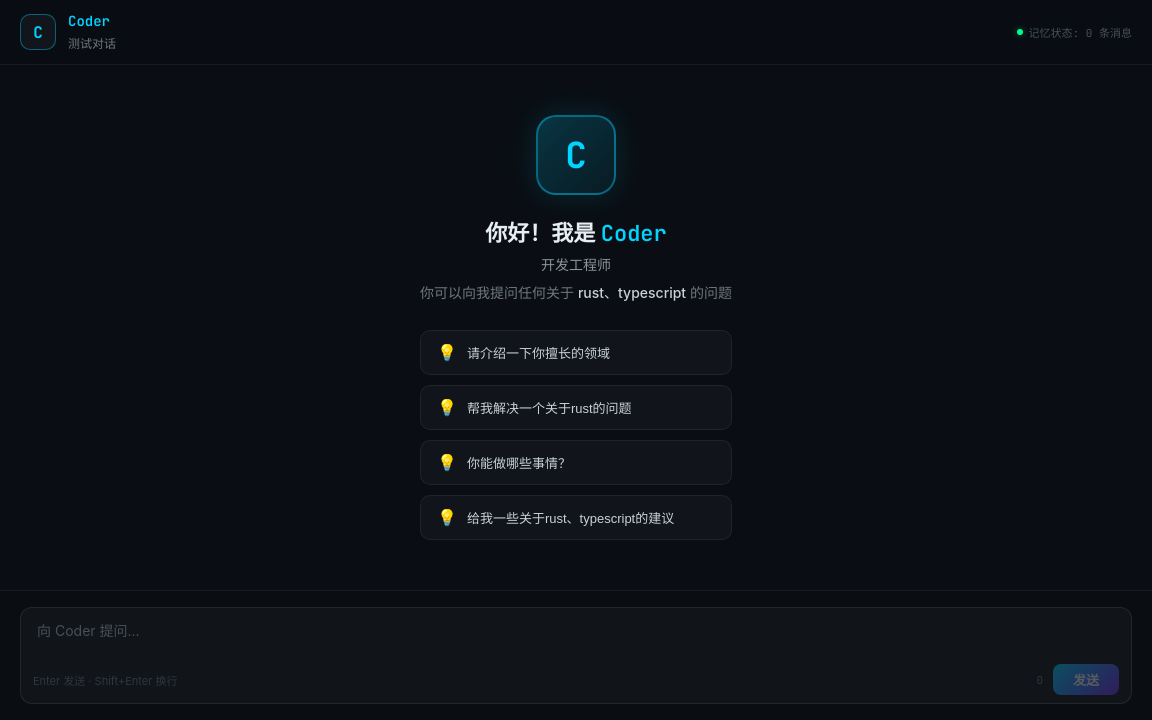
ChatWindow › enables send button when input has text
In the text box with class "chat-input": (576, 631) [21,608,1131,654], type "Hello"
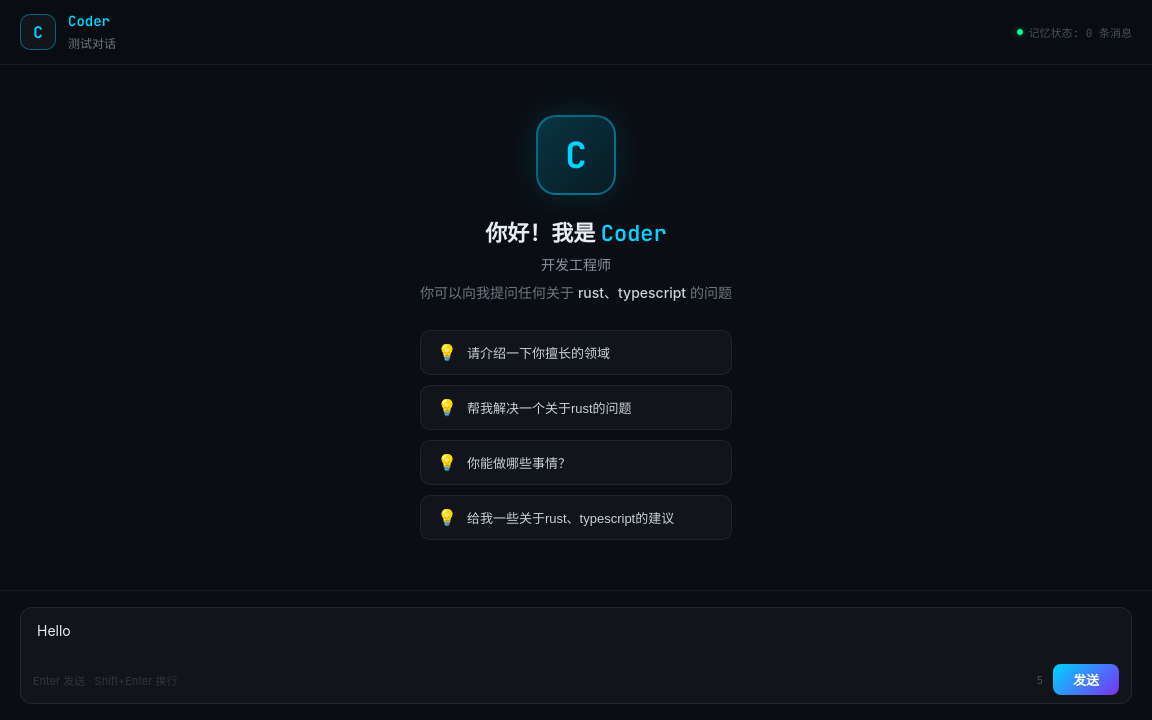
Result: the button with class "send-btn" is enabled at [1053,664,1119,695]
